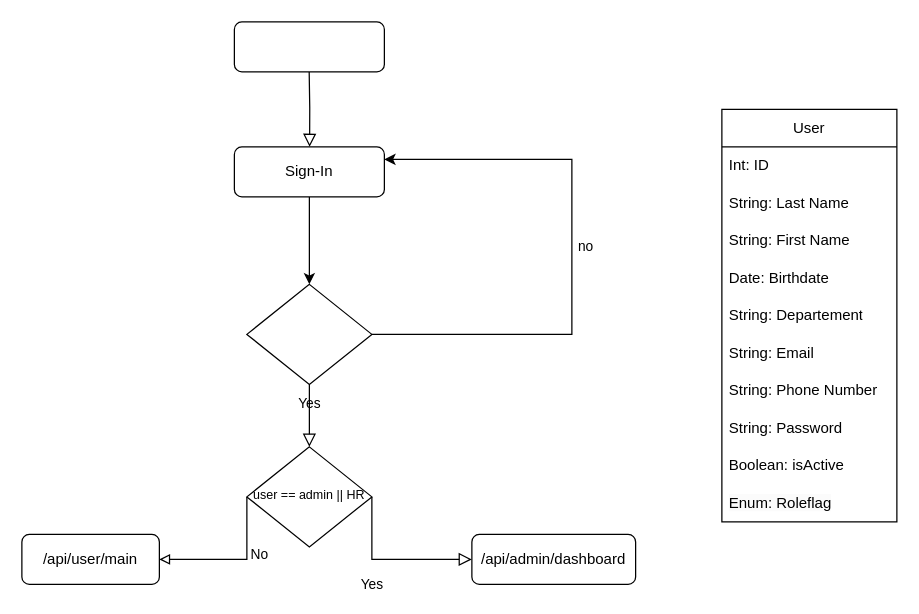
Image size: 919x614. Some labels were removed from this diagram. The shapes that lost their labels are listed below. From the top down, each one's centre as x and y in pixels, then its label:
At (308,46): "client called website".
At (309,333): "valid credential?".
